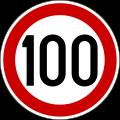Speed Limit -100-: (20, 30, 102, 89)
